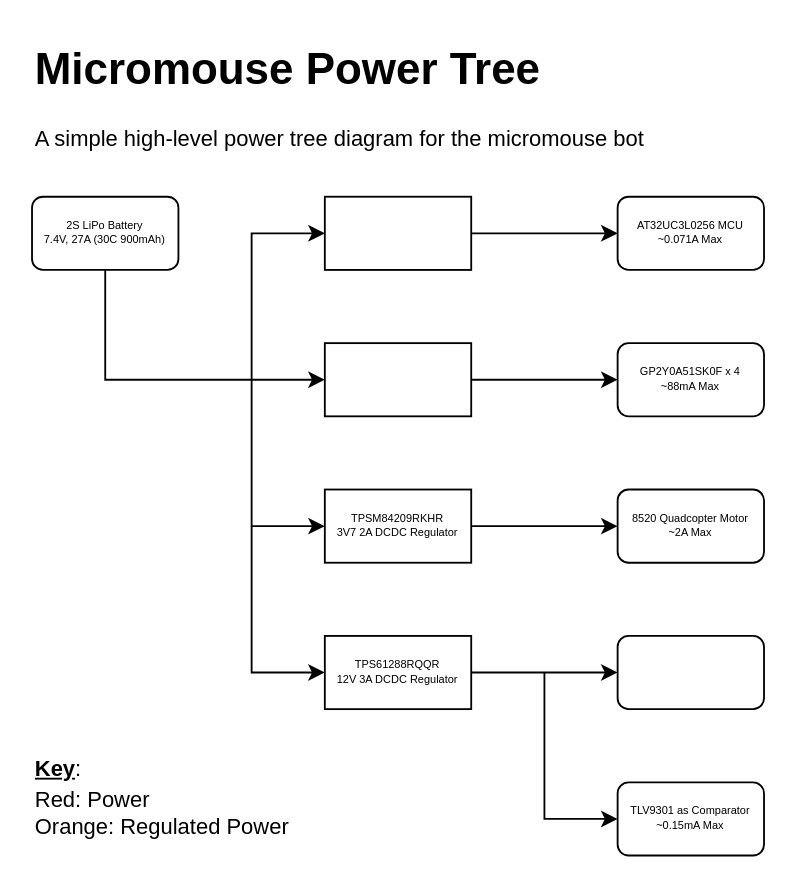
This 796x891 diagram has some shape labels left out. Here are the shapes that lost their labels. From the top down, the centre of each, then its label:
At [397,232]: "TPS62172DSGR 3V3 0.5A DCDC Regulator".
At [397,378]: "TPS62173DSGR 5V 0.5A DCDC Regulator".
At [690,671]: "Servocity N20 Motors x 2 ~3.220A (Stall Max) ~0.26A (Nominal Max)".
